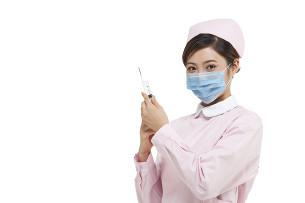OK: (185, 58, 231, 104)
